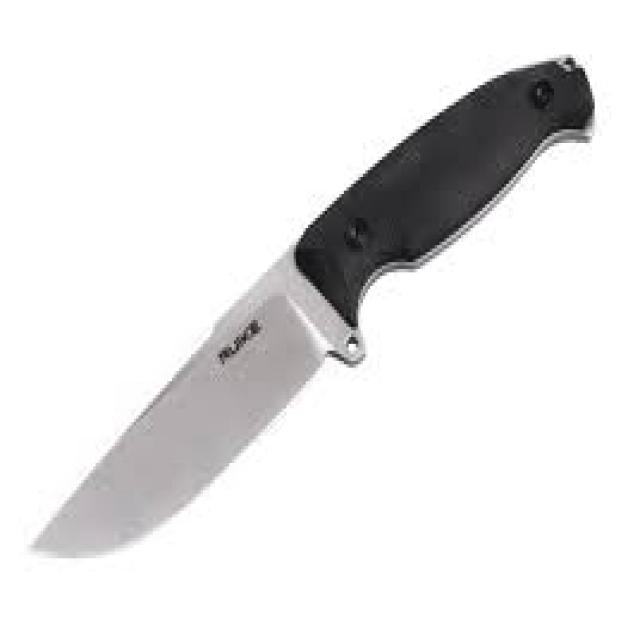knives: (27, 44, 600, 565)
